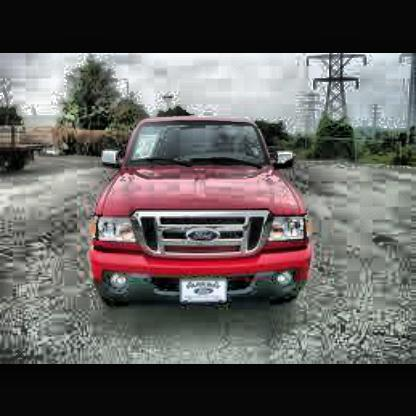Ford Ranger SuperCab 2011: (91, 117, 314, 309)
